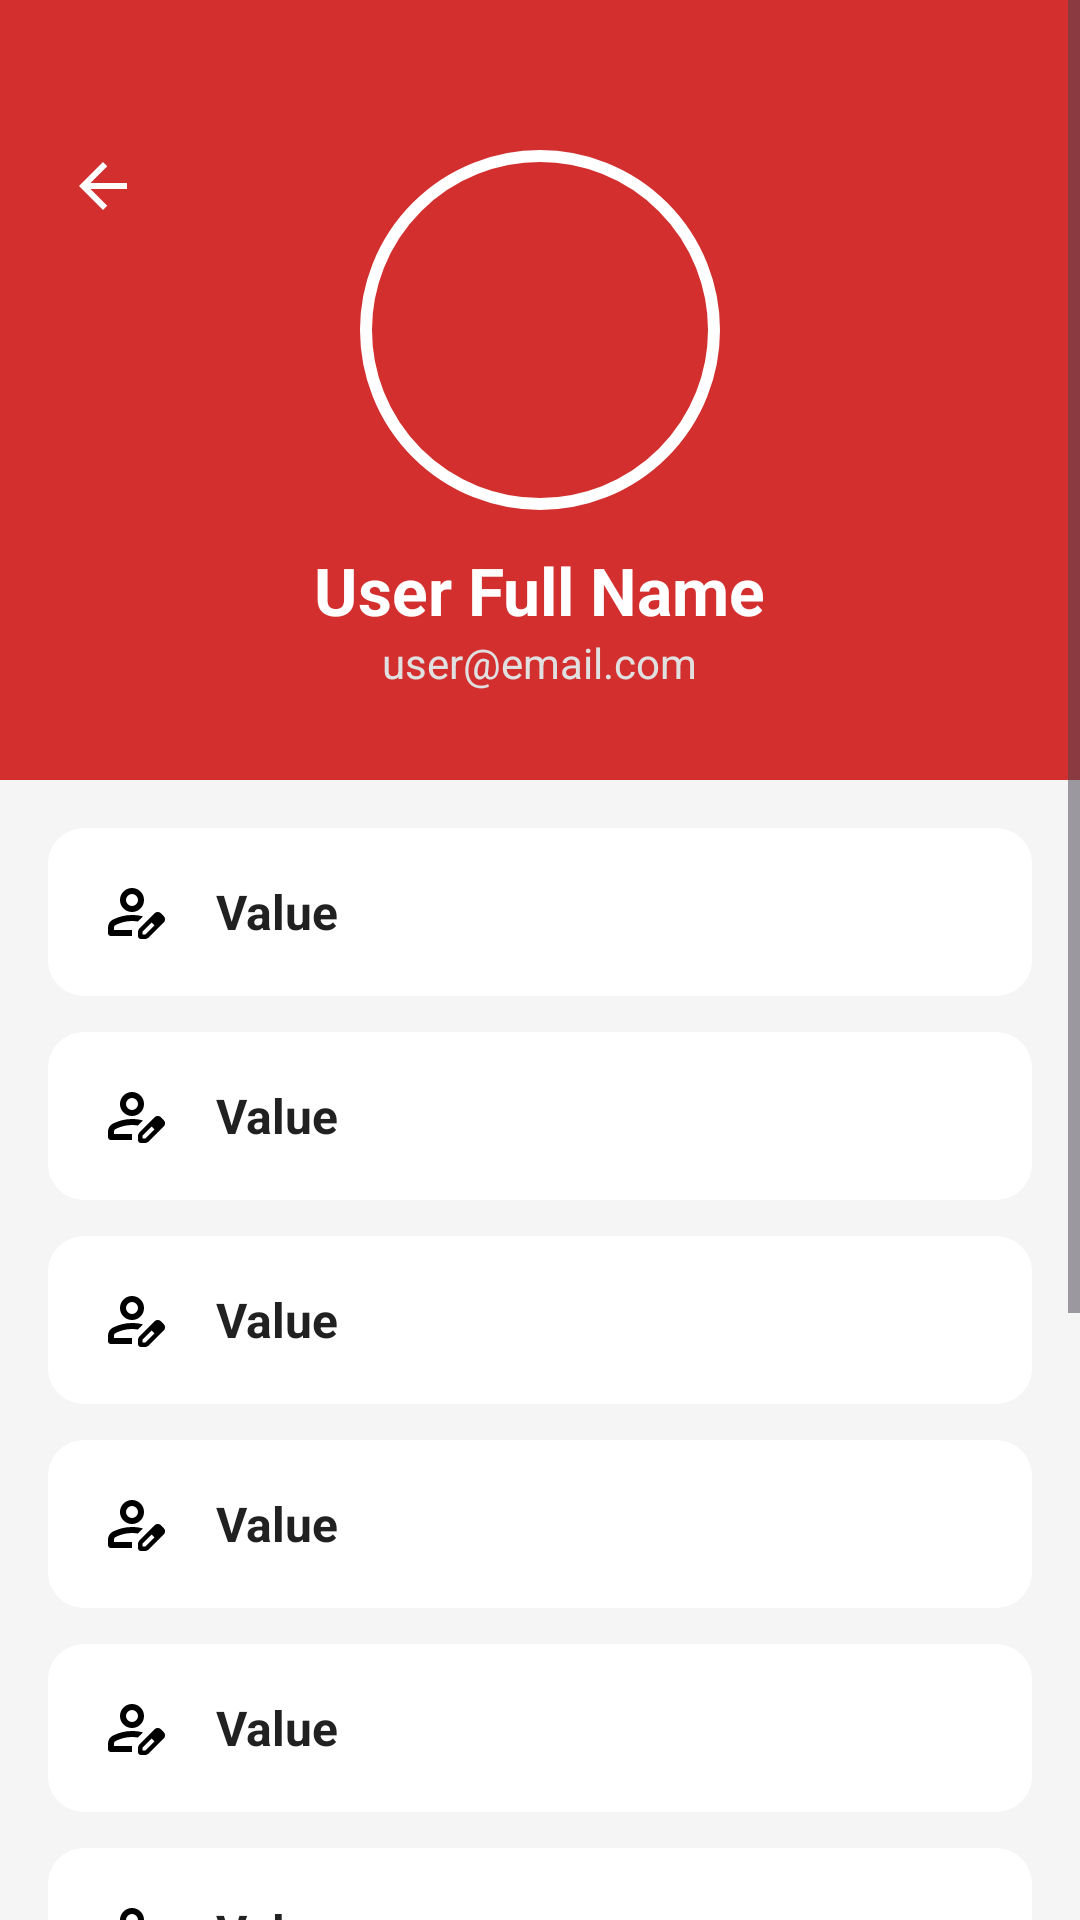

Icons on this 1080px×1920px Android screen, each with its box as {"x1": x1, "y1": y1, "x2": x2, "y2": y2}:
back: {"x1": 79, "y1": 162, "x2": 127, "y2": 210}
